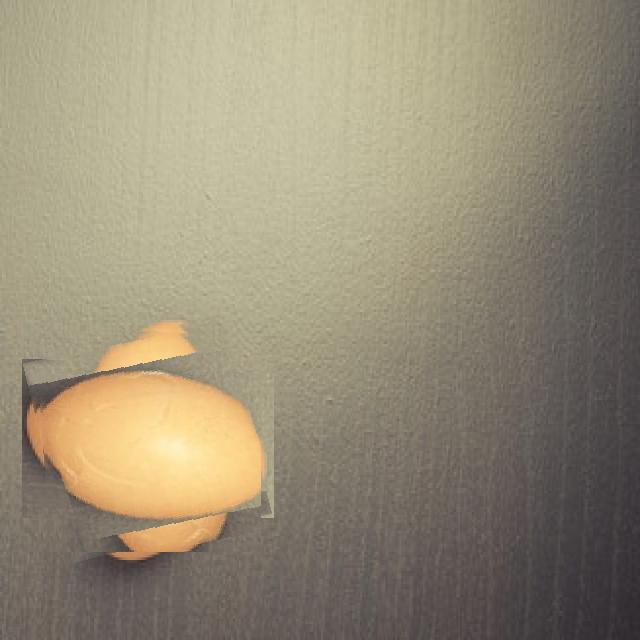biodegradable: (34, 325, 261, 552)
